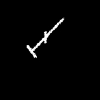double_crochet: (27, 19, 63, 56)
